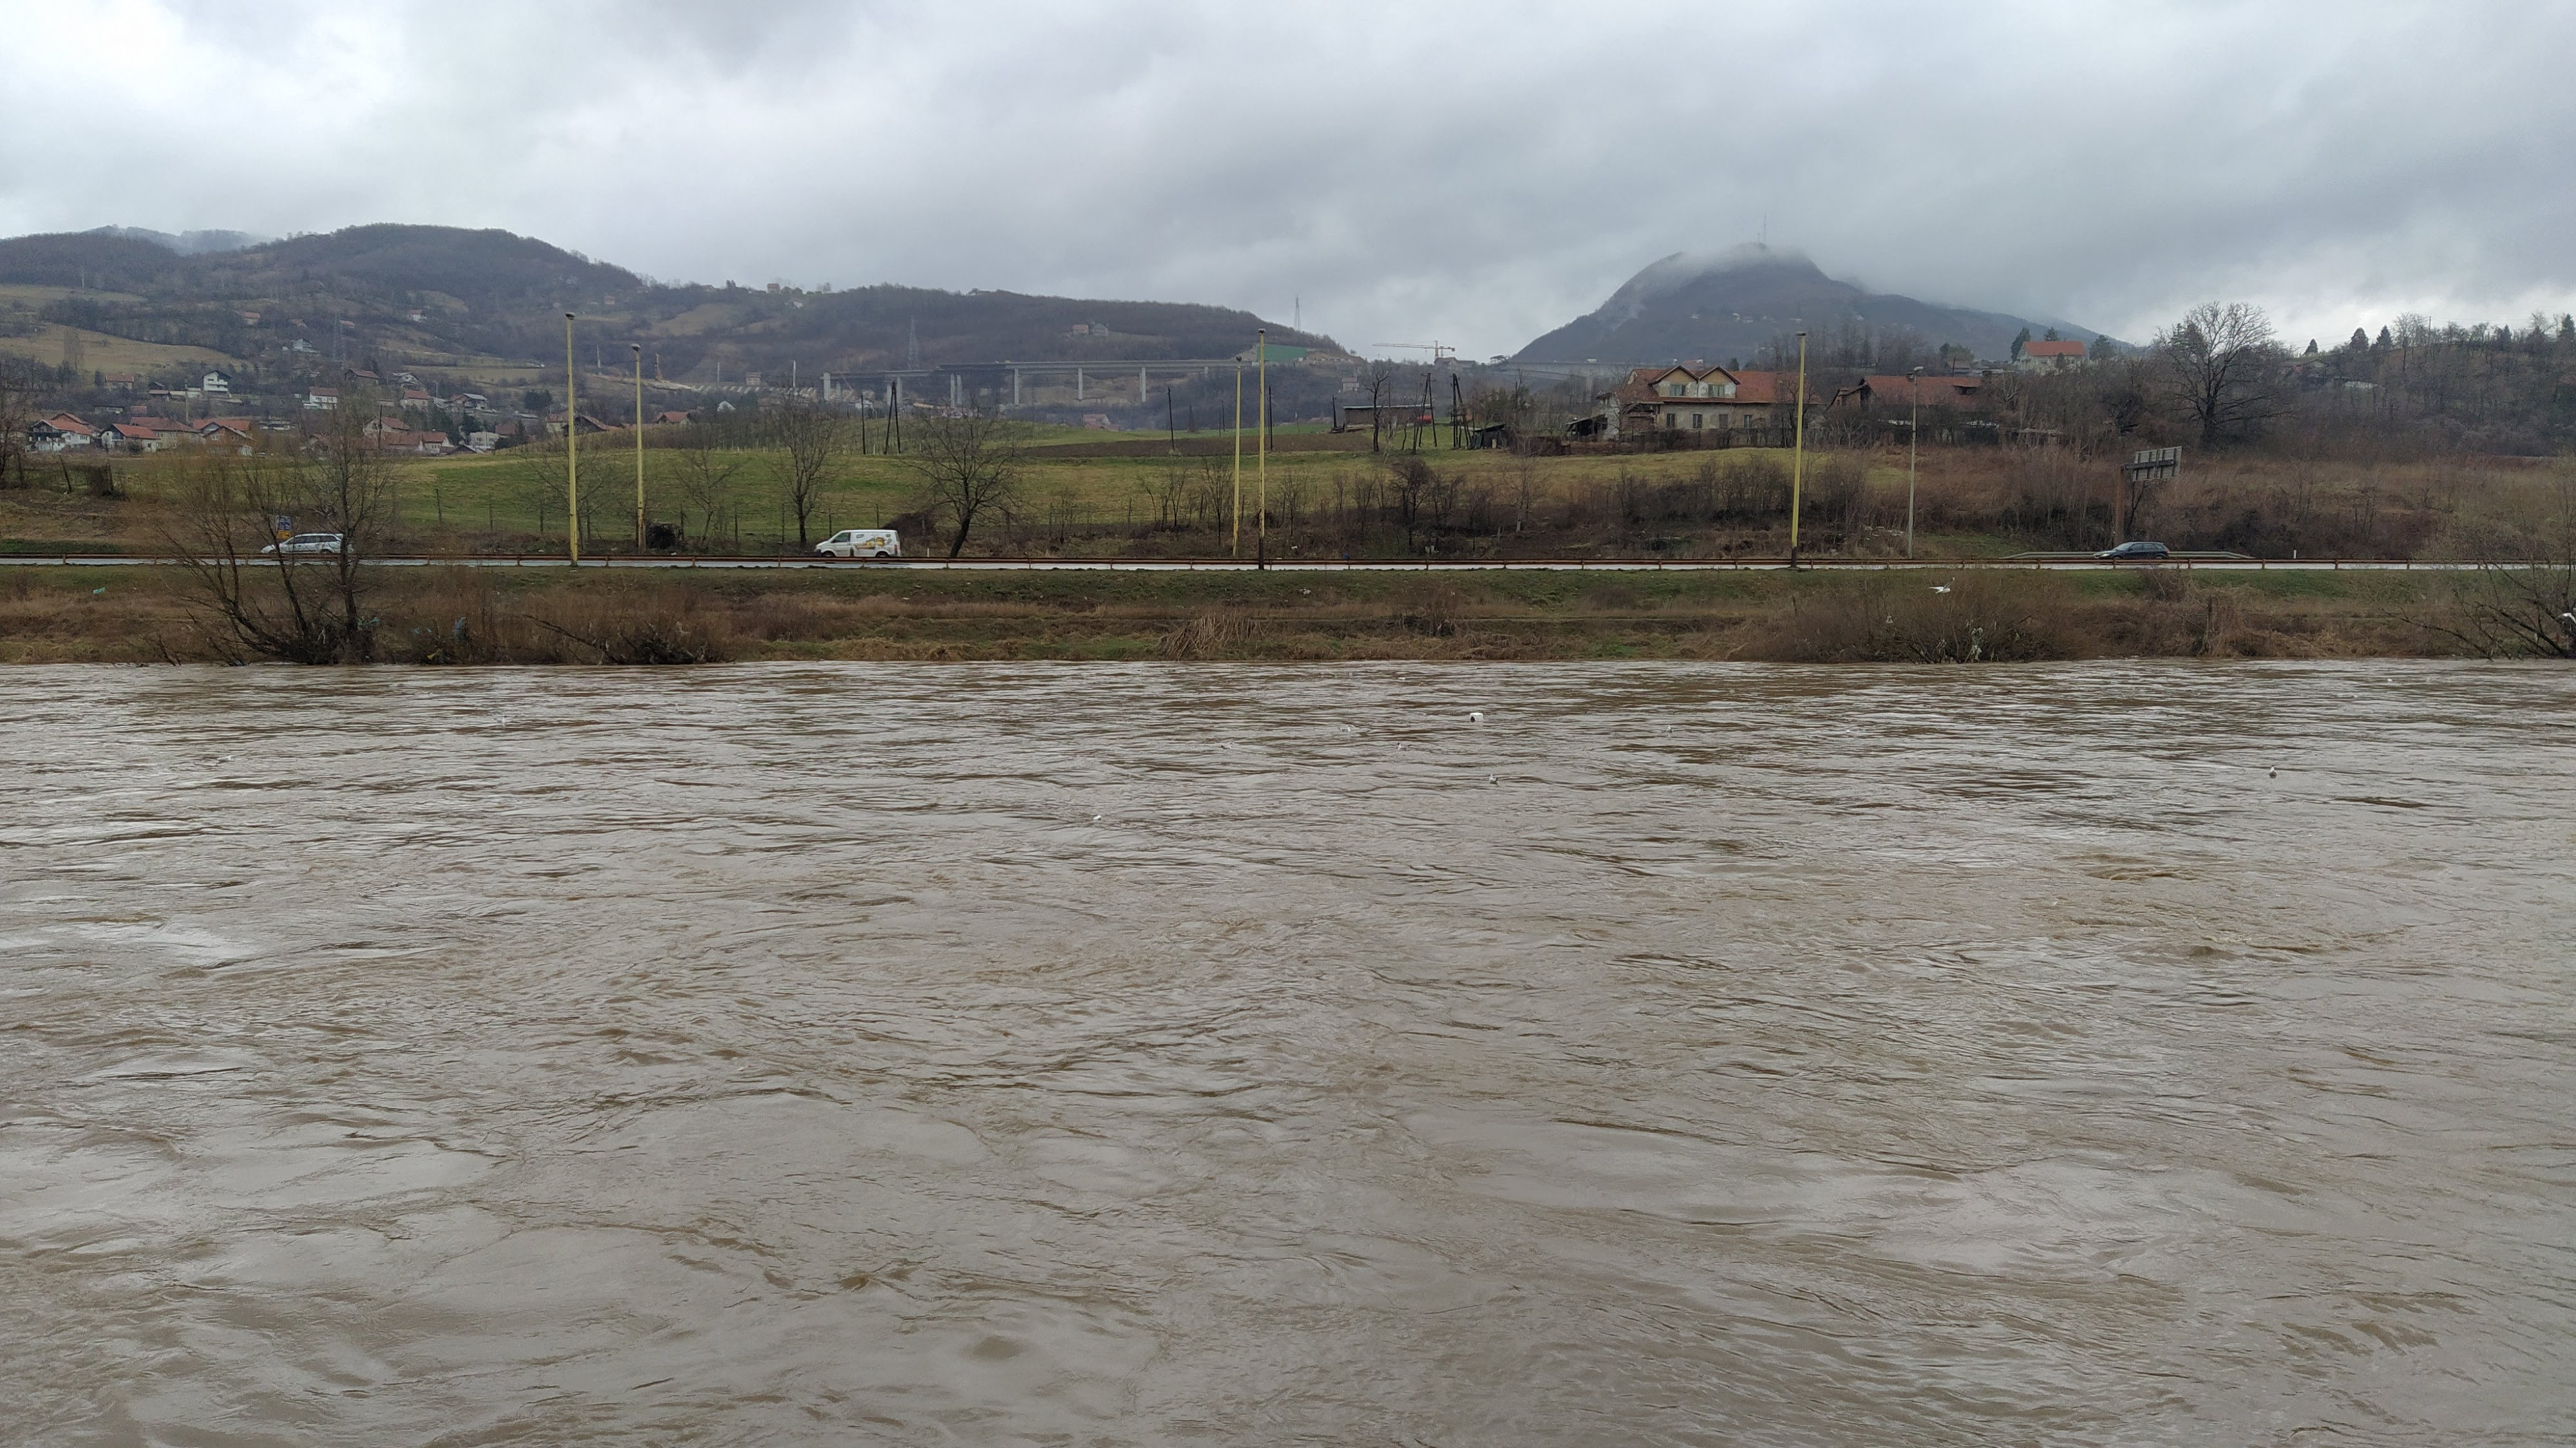Plastic Bottle: (218, 754, 235, 761), (1398, 676, 1405, 680)
